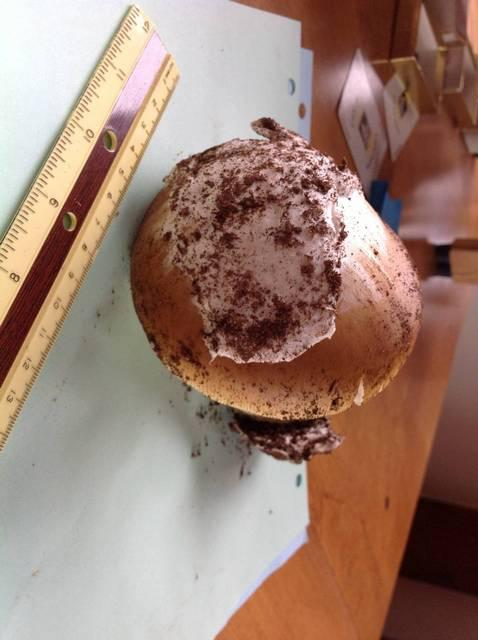edible_mushroom: (128, 115, 424, 463)
